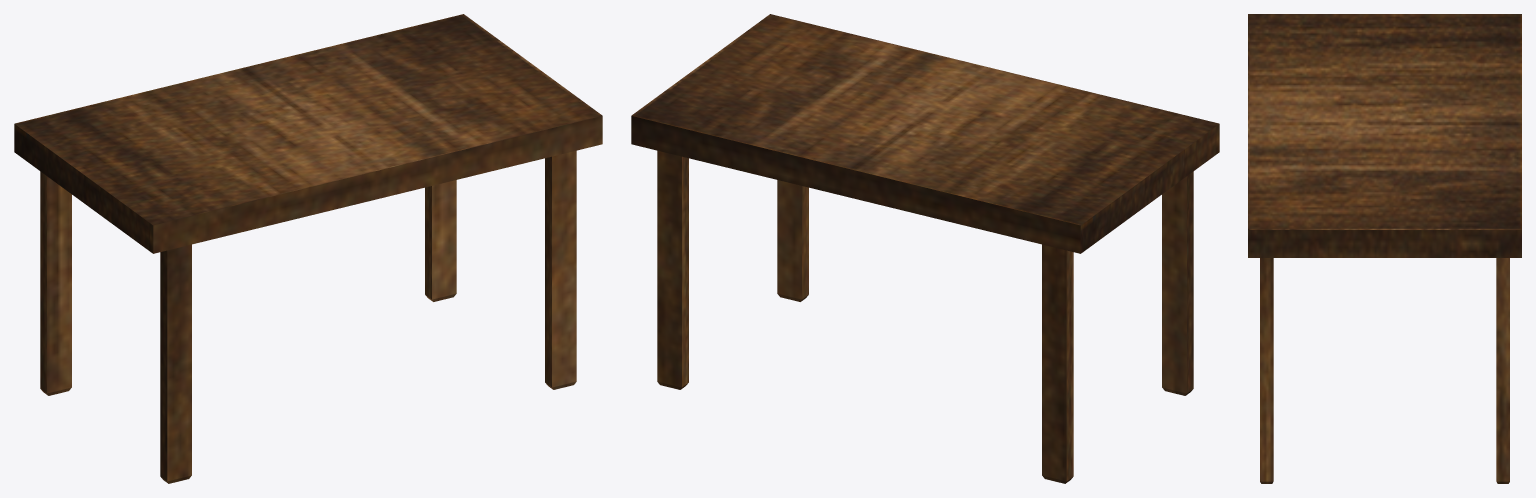
The model's file is Kitchen_Table_Free.glb.
3 renders of one model, left to right at view 1: azimuth 30°, elevation 25°; view 2: azimuth 150°, elevation 25°; view 3: azimuth 270°, elevation 25°, orthographic.
Visible parts, largest first — view 1: table.01; view 2: table.01; view 3: table.01.
Part boxes in pixels (x1,y1,x2,y2): table.01: (14, 14, 602, 483); table.01: (631, 14, 1219, 483); table.01: (1248, 14, 1521, 483).
Size of the model in its own units: 1.4 by 0.8 by 0.75.
Materials: 1 (1 with a texture image).
